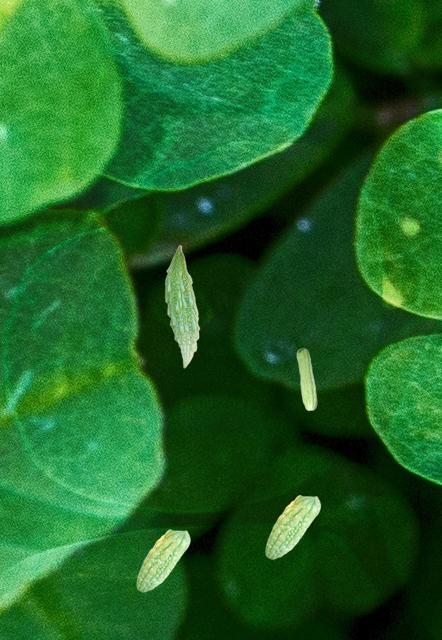ampalaya: (164, 244, 200, 368), (265, 494, 321, 559), (136, 529, 190, 592), (296, 348, 317, 411)
